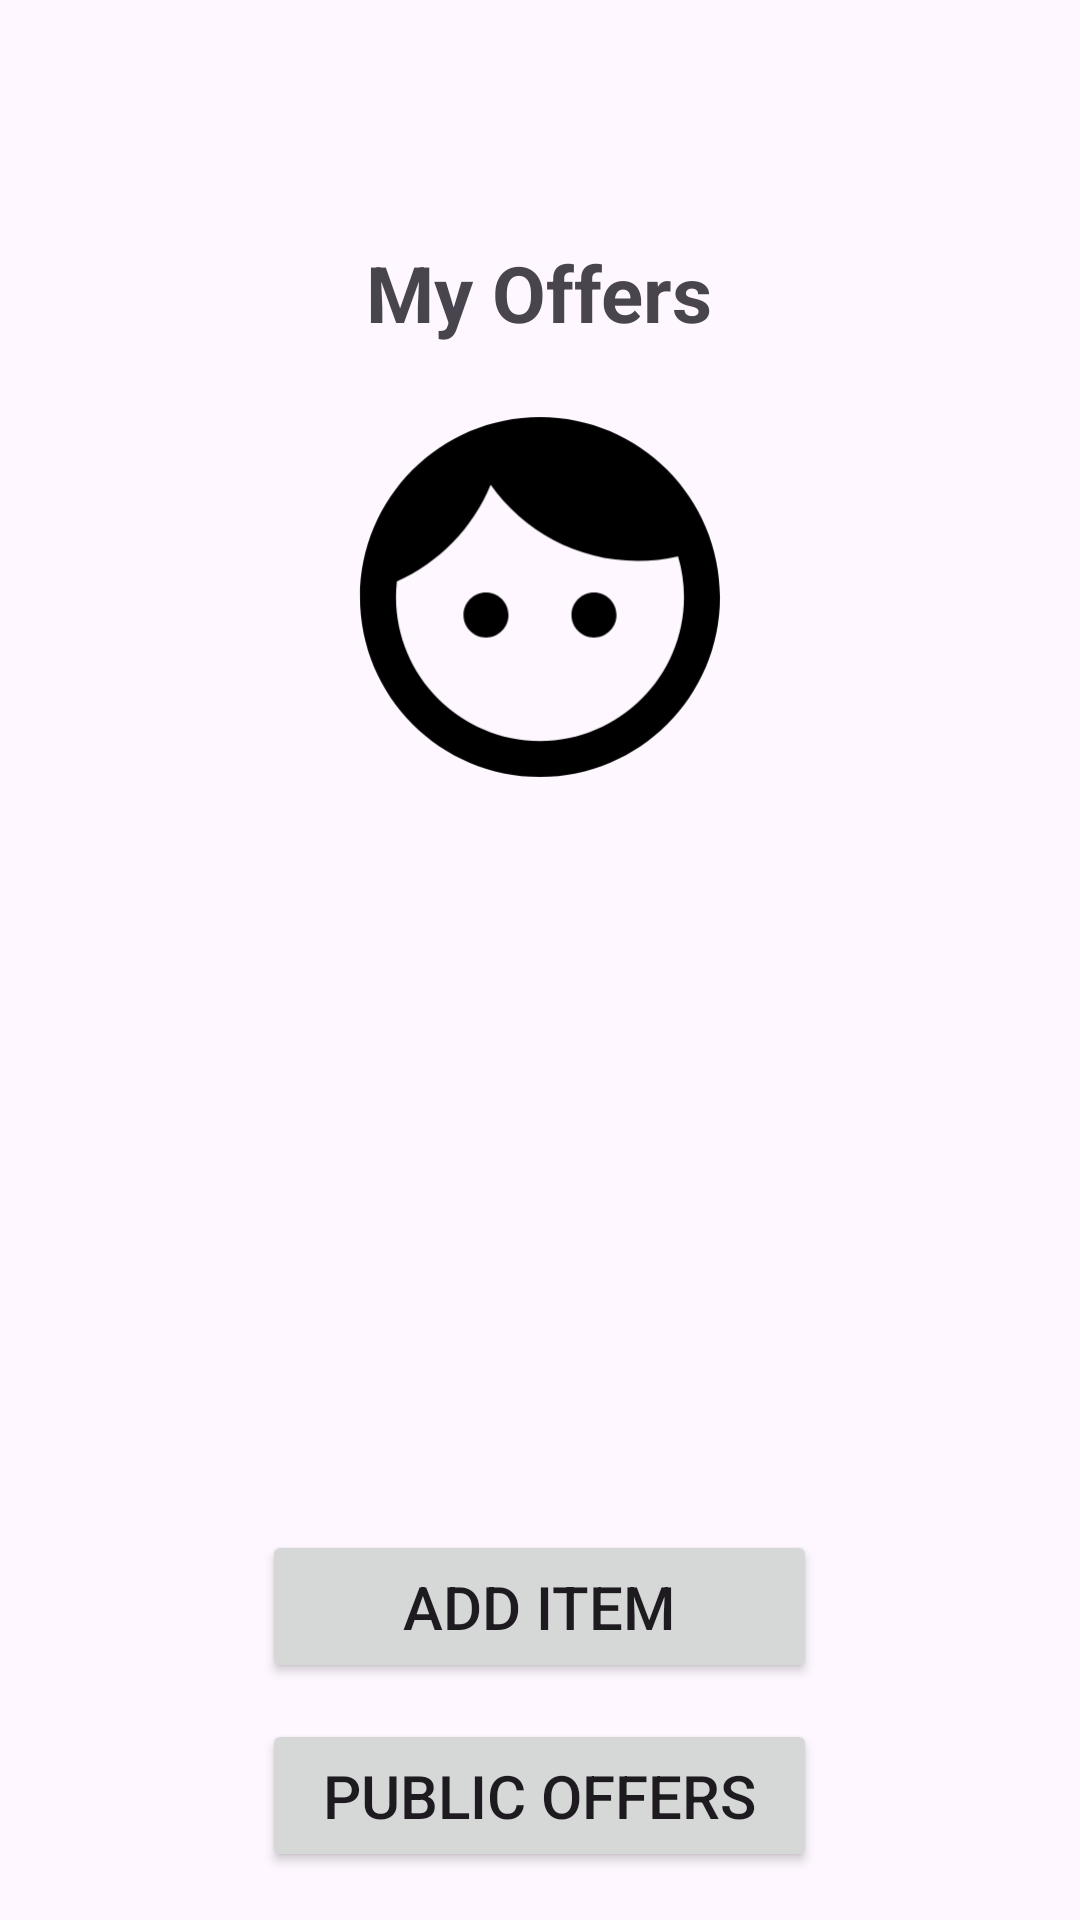

Screen size 1080 x 1920. Icon name, then its box in pixels as [x1=x1, y1=y1, x2=x2, y2=y2]:
profile face: [x1=360, y1=417, x2=720, y2=777]
